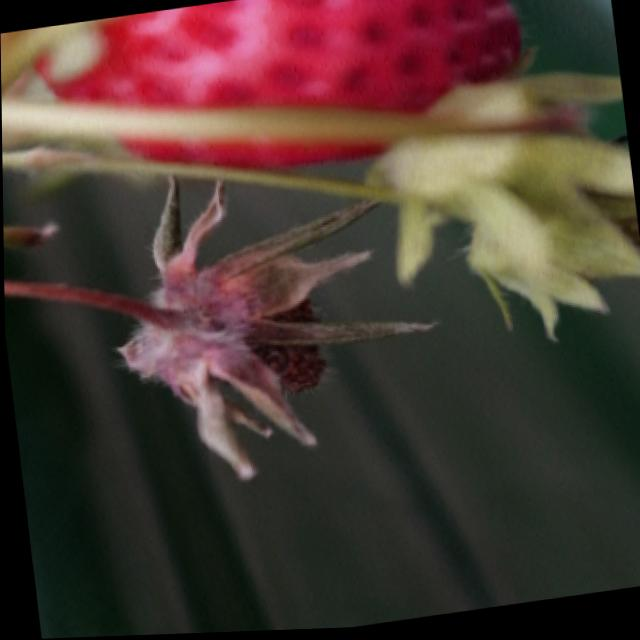Gray Mold: (108, 171, 439, 484)
